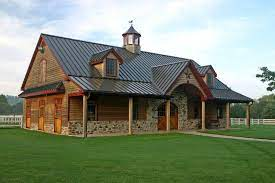Tin-shade House: (9, 28, 254, 136)
